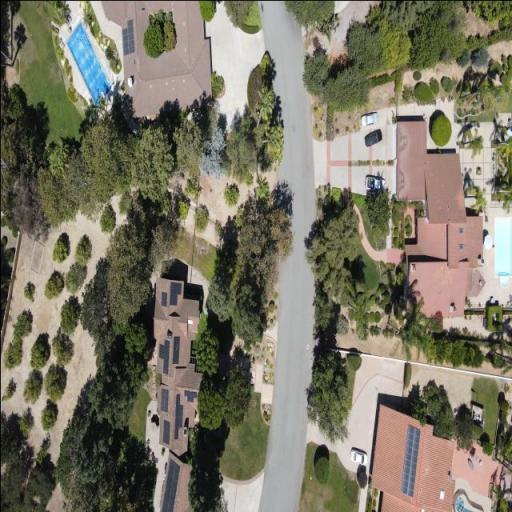solar-panel: (400, 424, 420, 497), (161, 458, 179, 512), (121, 18, 134, 55), (158, 338, 169, 373), (174, 393, 182, 439), (168, 281, 181, 305), (160, 388, 168, 412), (172, 336, 179, 363), (162, 419, 169, 444), (183, 389, 196, 401), (160, 291, 166, 307)
